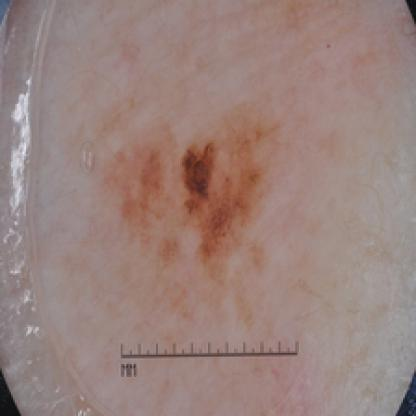malignant: (134, 121, 266, 264)
